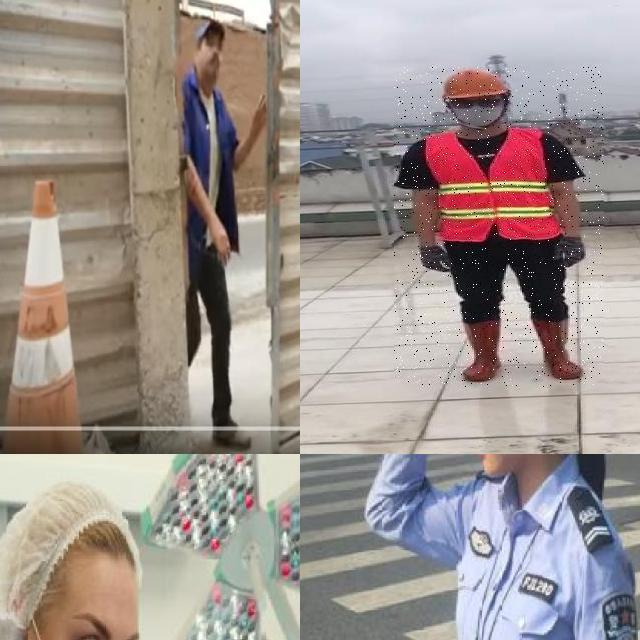No_Ear-Protection: (192, 7, 230, 100)
No_Glasses: (66, 603, 141, 640)
boots: (529, 319, 583, 382), (456, 322, 510, 382)
face_mask: (9, 533, 135, 640)
head_helmet: (436, 68, 512, 101)
head_nohelmet: (0, 478, 151, 602)
person: (394, 68, 604, 388), (359, 454, 640, 640), (0, 454, 255, 640)
vest: (422, 129, 560, 241)
